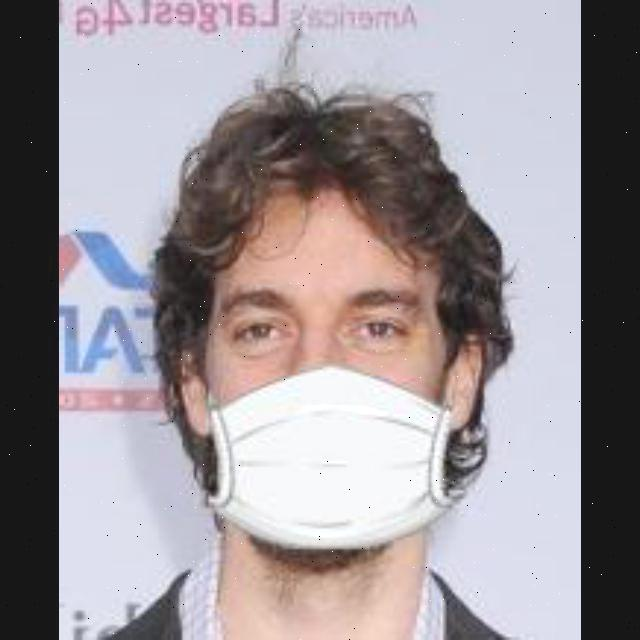suspicion: (195, 82, 529, 580)
